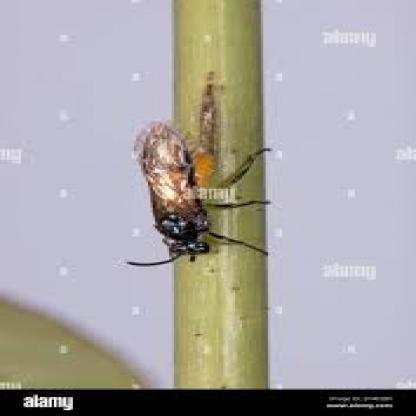sawfly: (117, 70, 284, 273)
